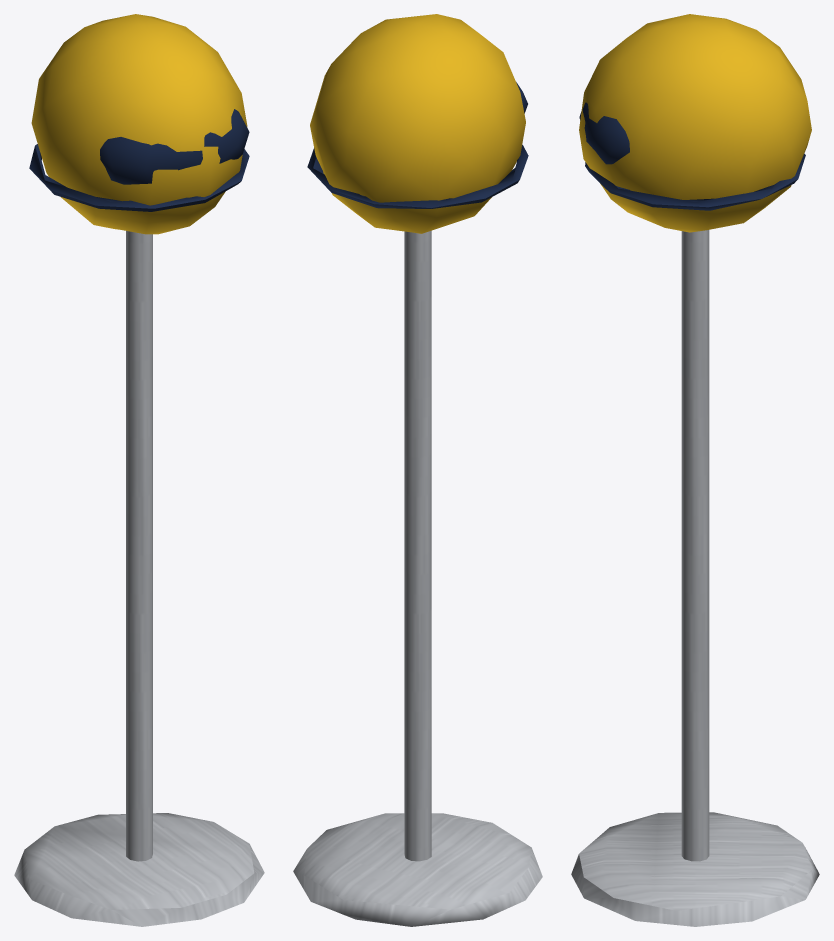
File: capacete-no-suporte-leve.glb
3 renders of one model, left to right at view 1: azimuth 30°, elevation 25°; view 2: azimuth 150°, elevation 25°; view 3: azimuth 270°, elevation 25°, orthographic.
Parts seen in each view (by area): view 1: casco, base, haste, viseira, faixa; view 2: casco, base, haste, faixa; view 3: casco, base, haste, faixa, viseira.
Boxes of the visible parts, x1=… form: casco: x1=31, y1=14, x2=247, y2=234; base: x1=14, y1=813, x2=264, y2=926; haste: x1=126, y1=231, x2=152, y2=861; viseira: x1=100, y1=109, x2=249, y2=184; faixa: x1=29, y1=144, x2=249, y2=211; casco: x1=310, y1=14, x2=525, y2=233; base: x1=293, y1=813, x2=542, y2=926; haste: x1=404, y1=230, x2=431, y2=861; faixa: x1=307, y1=145, x2=528, y2=208; casco: x1=579, y1=14, x2=811, y2=232; base: x1=571, y1=812, x2=819, y2=926; haste: x1=681, y1=230, x2=709, y2=861; faixa: x1=585, y1=154, x2=805, y2=210; viseira: x1=579, y1=102, x2=629, y2=164.
Bounding box in the file's own units: 0.36 × 1.36 × 0.36.
Materials: 3 (1 with a texture image).
